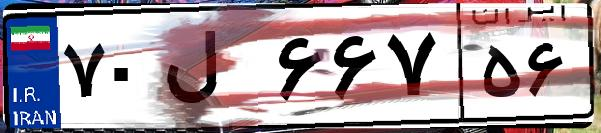0: (110, 28, 158, 98)
5: (475, 38, 525, 113)
6: (270, 28, 330, 110), (330, 28, 385, 110), (525, 38, 570, 115)
7: (385, 28, 445, 110), (57, 26, 110, 100)
ل: (158, 20, 270, 120)
